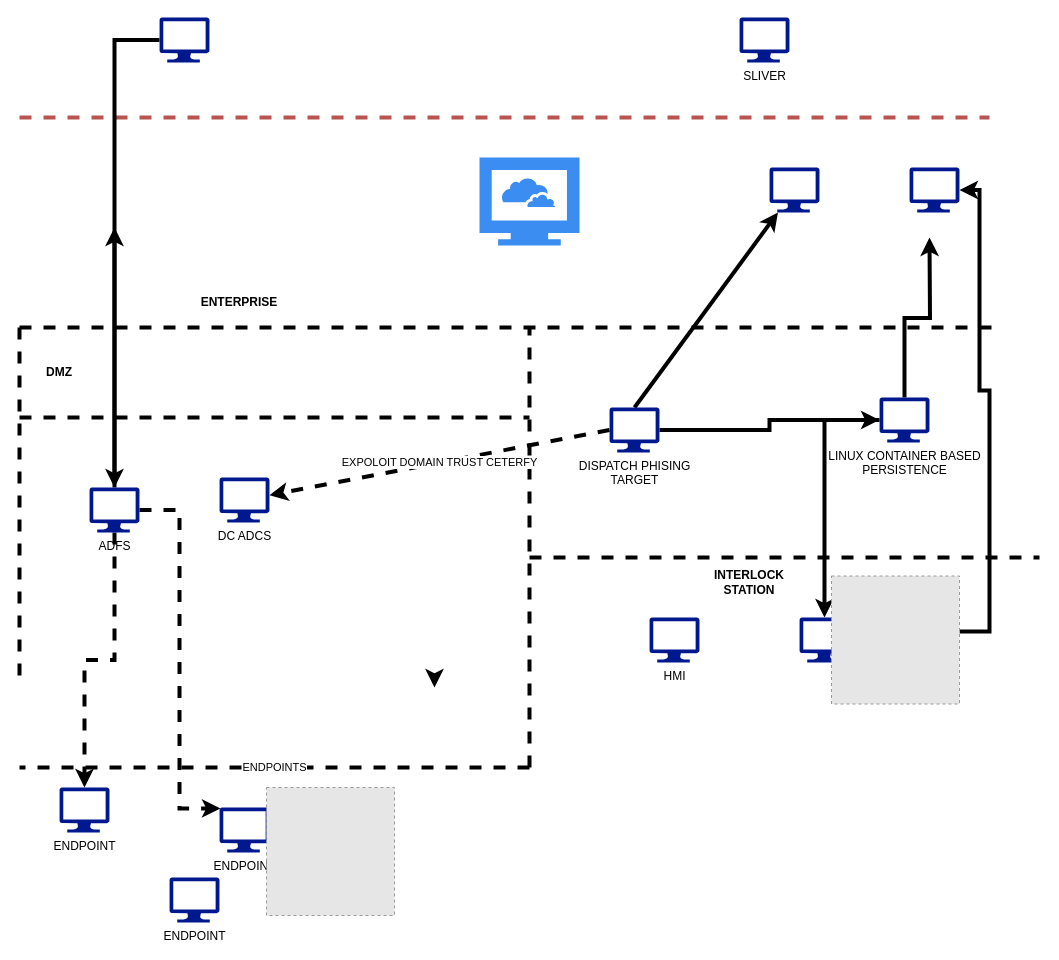
Some shapes in this 1059 by 960 pixel diagram are drawn without their labels. Grey dashed boxes stand in for pictures. Each missing label, with the centre of its shape:
"C2 DOMAIN 1" belongs at point 794,189.
"C2 DOMAIN 2" belongs at point 934,189.
"GRAY SPACE WEB MAIL" belongs at point 529,201.
"MERLIN" belongs at point 184,39.
"PLC" belongs at point 824,639.
